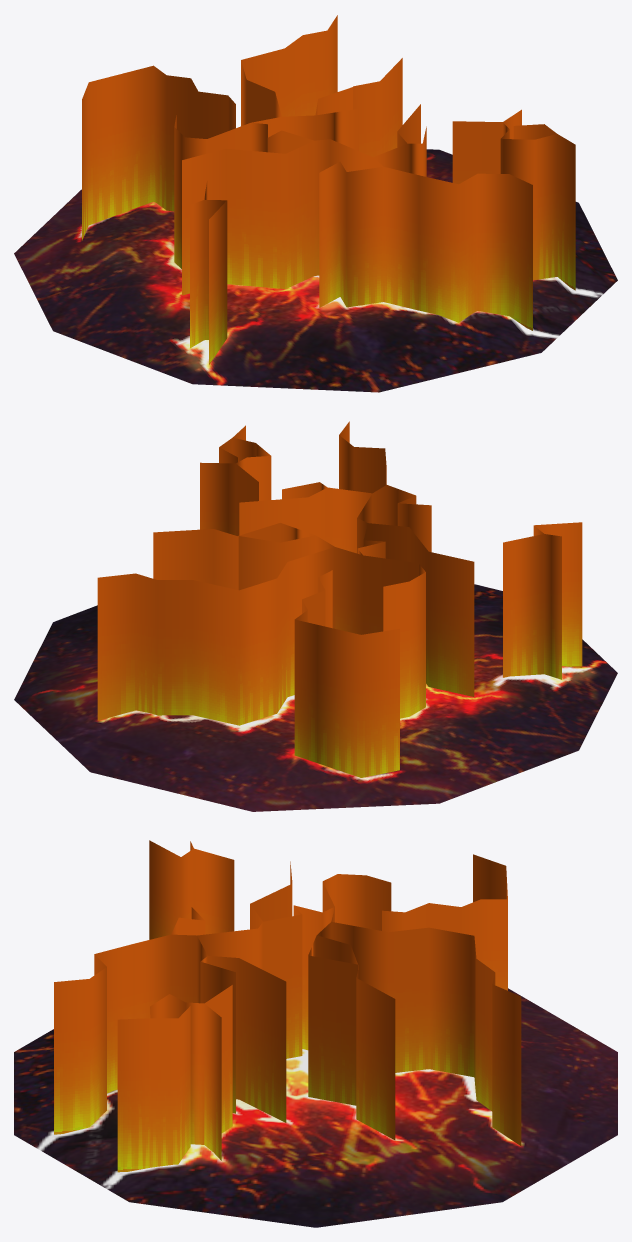
The model's file is Model_Q_RongYan.FBX.
3 renders of one model, top to bottom at view 1: azimuth 30°, elevation 25°; view 2: azimuth 150°, elevation 25°; view 3: azimuth 270°, elevation 25°, orthographic. The views are drawn at different scales.
Visible parts, largest first — view 1: Model_RongYan_Guang, Model_Q_RongYan; view 2: Model_RongYan_Guang, Model_Q_RongYan; view 3: Model_RongYan_Guang, Model_Q_RongYan.
Part boxes in pixels (x1=…): Model_RongYan_Guang: x1=82, y1=15, x2=575, y2=364; Model_Q_RongYan: x1=14, y1=149, x2=617, y2=392; Model_RongYan_Guang: x1=97, y1=421, x2=582, y2=777; Model_Q_RongYan: x1=14, y1=584, x2=617, y2=811; Model_RongYan_Guang: x1=54, y1=840, x2=521, y2=1172; Model_Q_RongYan: x1=14, y1=988, x2=617, y2=1227.
Size of the model in its own units: 10.31 by 2.84 by 9.81.
